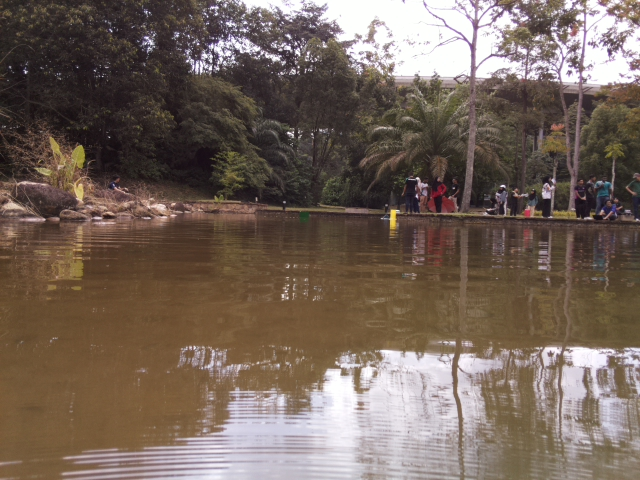obstacle: (296, 210, 309, 219)
